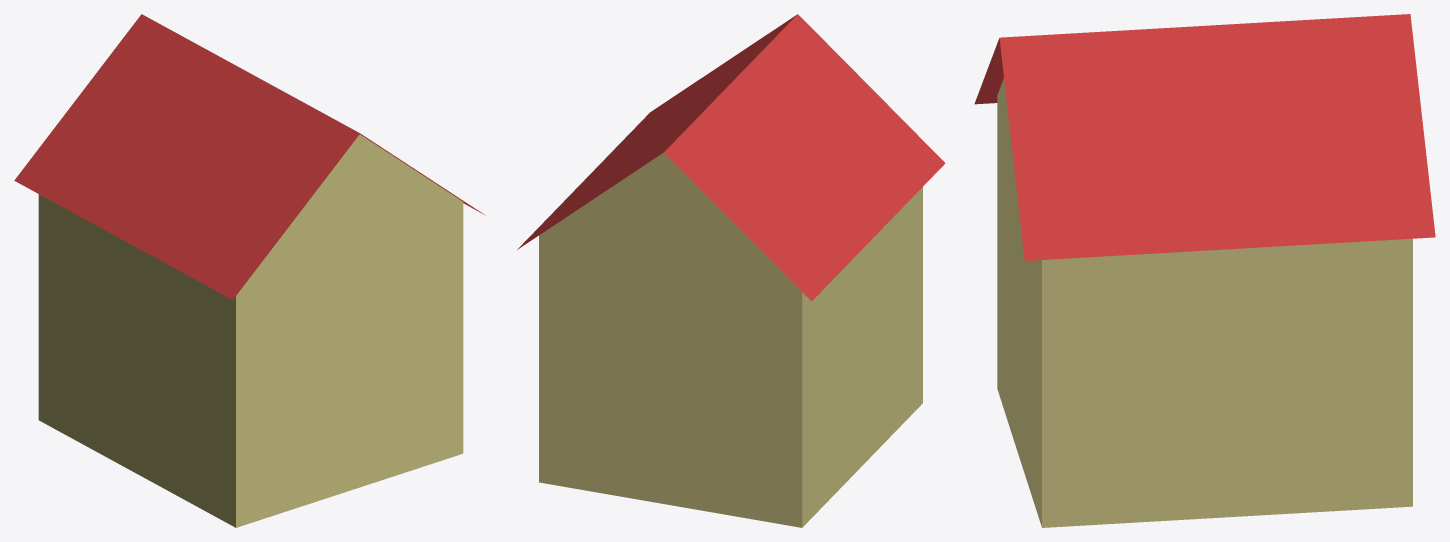
3 views of the same model, side by side, from view 1: azimuth 30°, elevation 25°; view 2: azimuth 150°, elevation 25°; view 3: azimuth 270°, elevation 25° (orthographic). The views are drawn at different scales.
Size of the model in its own units: 10.51 by 11.37 by 11.46.
